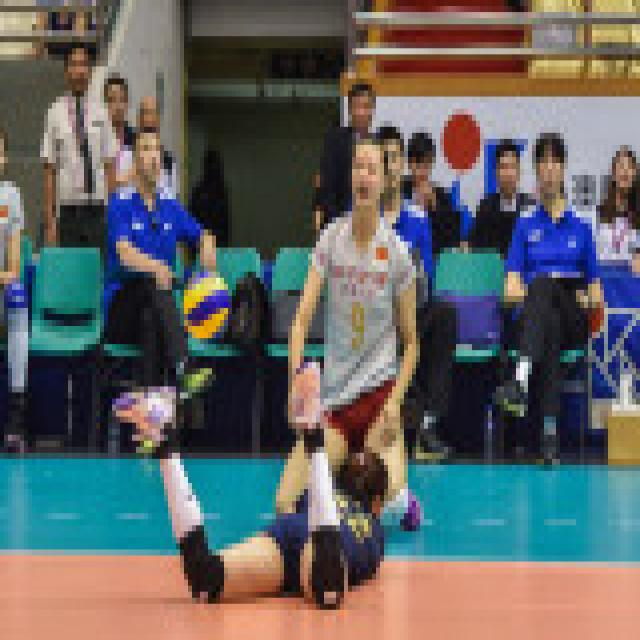10-: (0, 6, 628, 622)
down: (108, 332, 420, 622)
